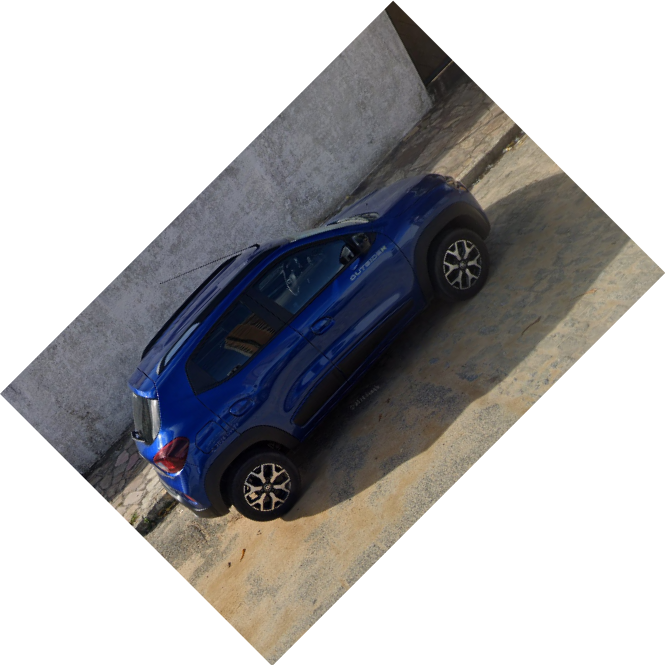car: (124, 168, 492, 529)
